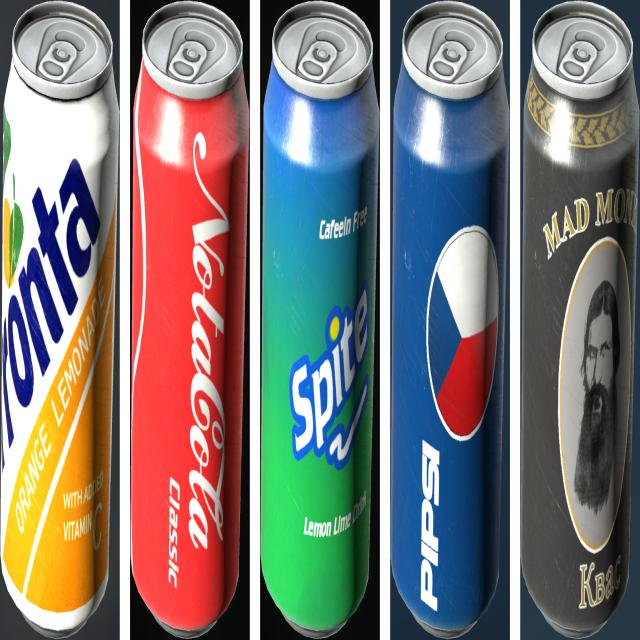can: (260, 0, 383, 637), (391, 0, 513, 638), (518, 5, 640, 640), (0, 0, 119, 640), (132, 3, 250, 640)
